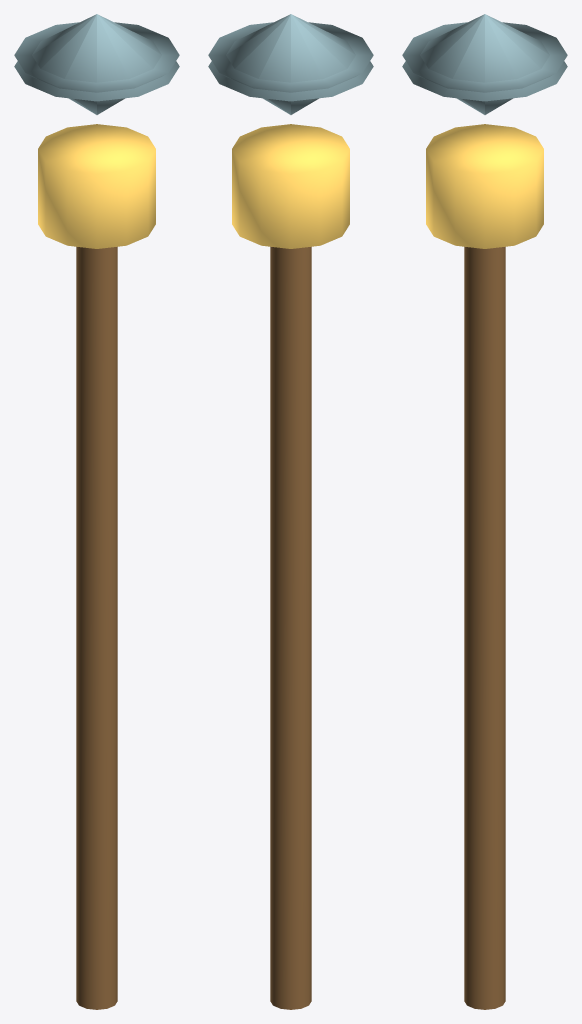
Rendered from staff.glb.
3 renders of one model, left to right at view 1: azimuth 30°, elevation 25°; view 2: azimuth 150°, elevation 25°; view 3: azimuth 270°, elevation 25°, orthographic.
Parts seen in each view (by area): view 1: staff_shaft, staff_socket, crystal_upper, crystal_lower; view 2: staff_shaft, staff_socket, crystal_upper, crystal_lower; view 3: staff_shaft, staff_socket, crystal_upper, crystal_lower.
Boxes of the visible parts, x1,y1,x2,y2 form: staff_shaft: (76, 246, 117, 1009); staff_socket: (38, 124, 155, 248); crystal_upper: (14, 14, 179, 101); crystal_lower: (14, 22, 179, 114); staff_shaft: (270, 246, 311, 1009); staff_socket: (232, 124, 349, 248); crystal_upper: (208, 14, 373, 101); crystal_lower: (208, 22, 373, 114); staff_shaft: (464, 246, 505, 1009); staff_socket: (426, 124, 543, 248); crystal_upper: (402, 14, 567, 101); crystal_lower: (402, 22, 567, 114).
Size of the model in its own units: 0.28 by 1.84 by 0.28.
